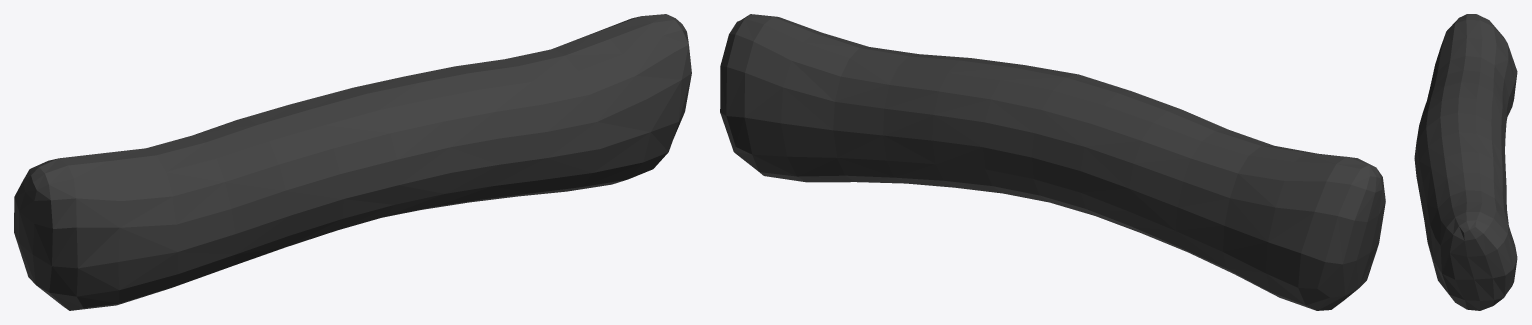
Rendered from cart_sesamoid_LO.glb.
3 renders of one model, left to right at view 1: azimuth 30°, elevation 25°; view 2: azimuth 150°, elevation 25°; view 3: azimuth 270°, elevation 25°, orthographic. The views are drawn at different scales.
Visible parts, largest first — view 1: cart_sesamoid_LO; view 2: cart_sesamoid_LO; view 3: cart_sesamoid_LO.
Boxes of the visible parts, x1,y1,x2,y2 form: cart_sesamoid_LO: (14,14,691,310); cart_sesamoid_LO: (720,14,1385,310); cart_sesamoid_LO: (1414,14,1517,310).
Bounding box in the file's own units: 0.0512 × 0.0116 × 0.0103.
1 material, 1 textured.
